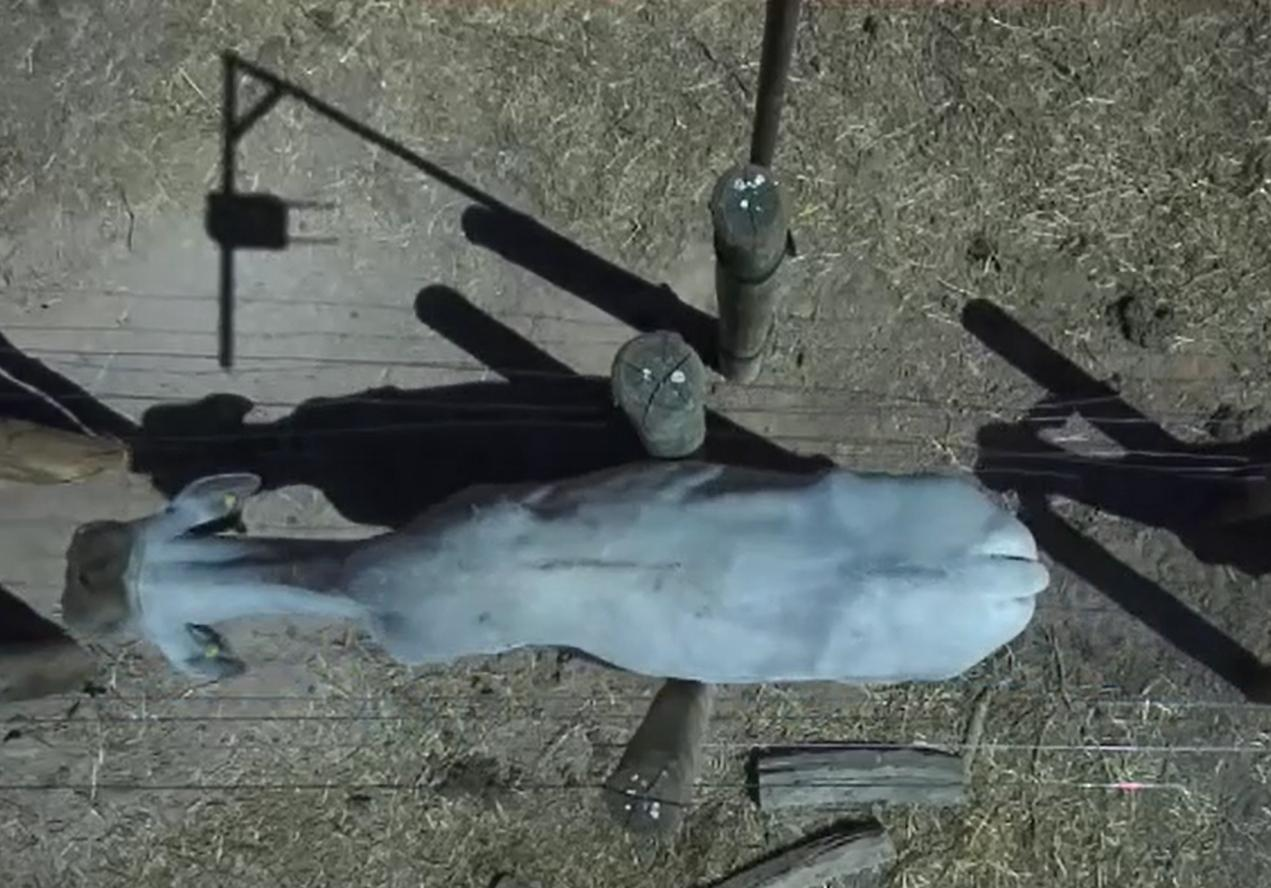cattle: (48, 432, 1055, 699)
